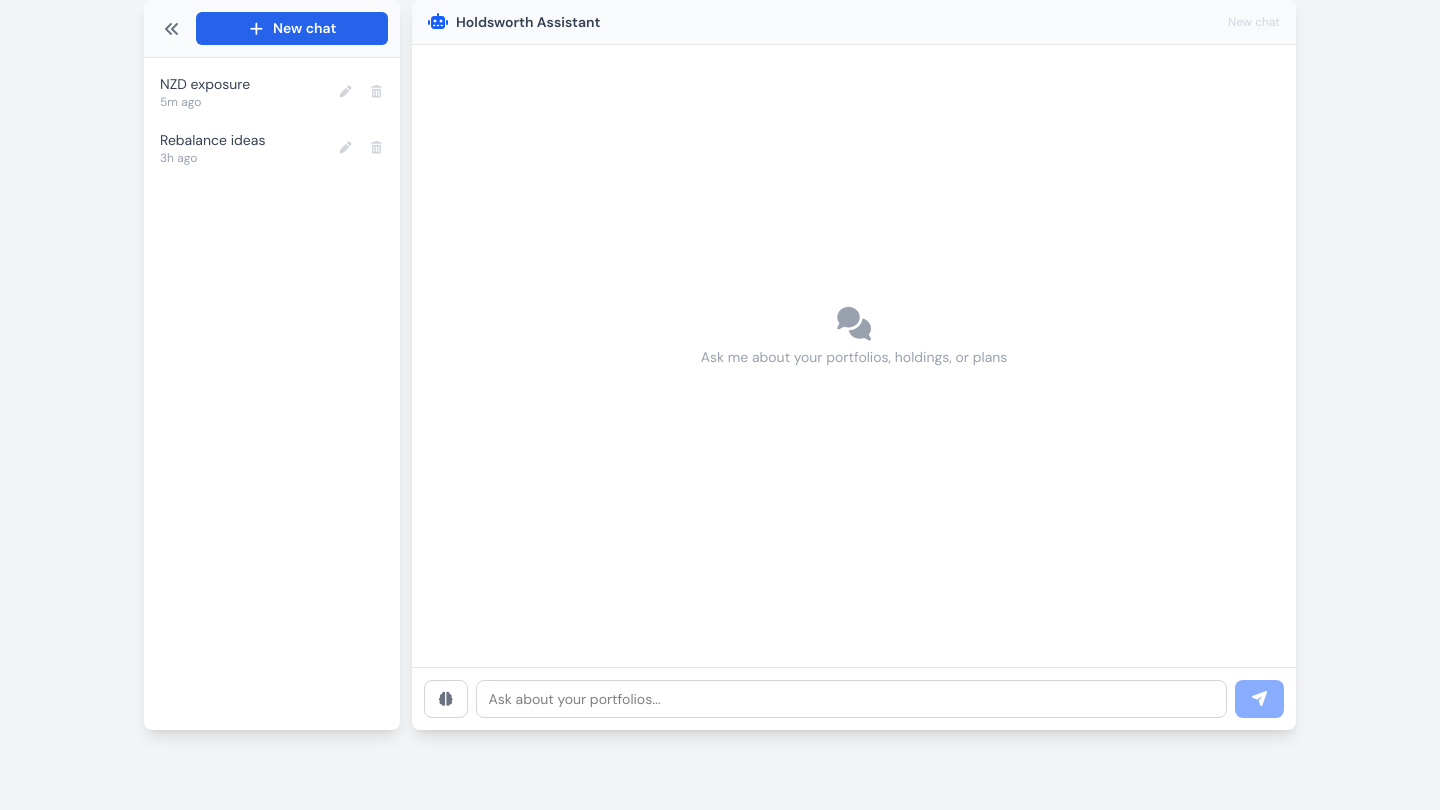
/chat page › renaming a conversation › edits the title inline, pre-filled, focused and selected
(page scrolled)
expect the text "Rebalance ideas" is shown: met, box [160,131,265,149]
Step 1. Click the button named "Rename \"Rebalance ideas\"" → click(346, 148), box [330,132,361,164]
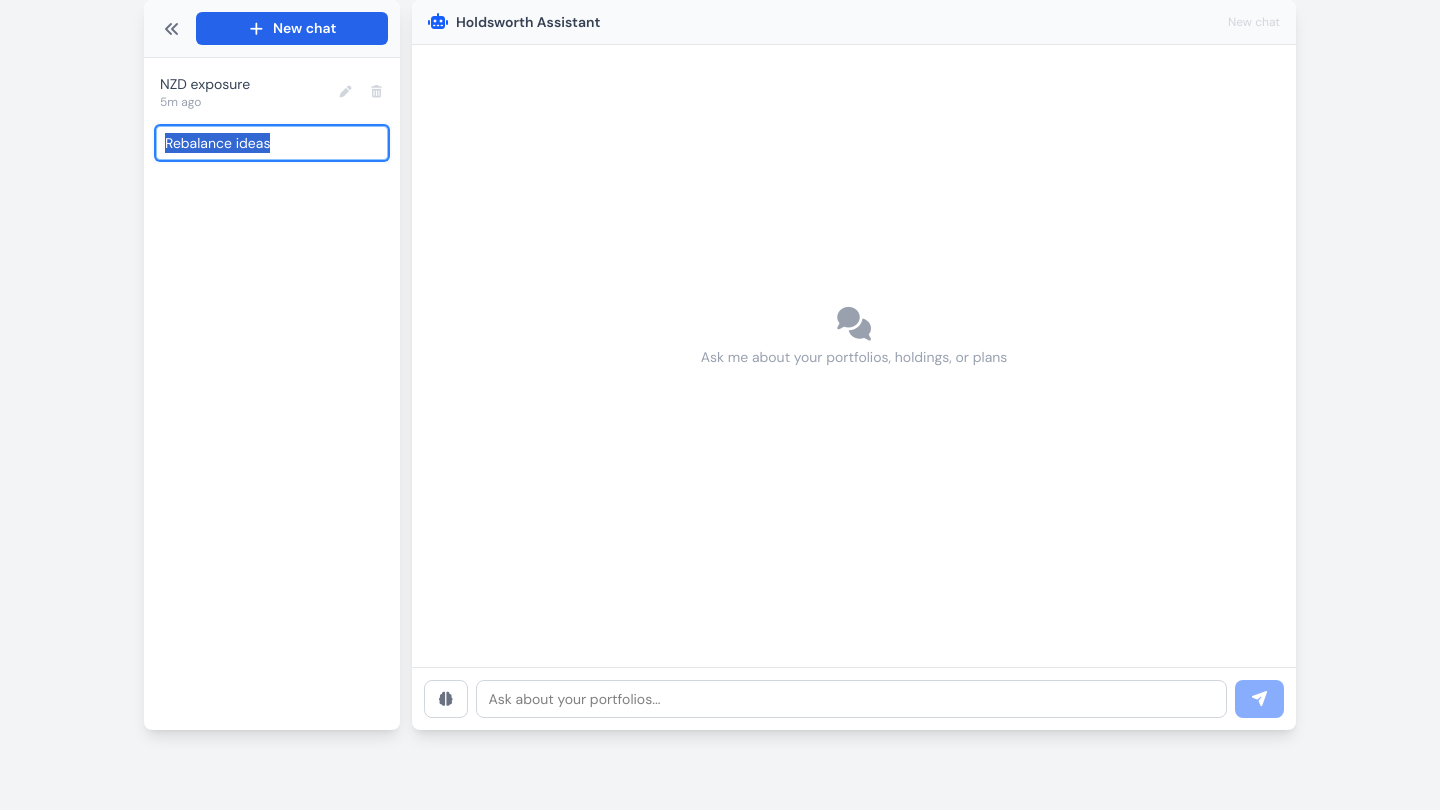
expect the field named "conversation title" holds "Rebalance ideas": met, box [156,126,388,160]
